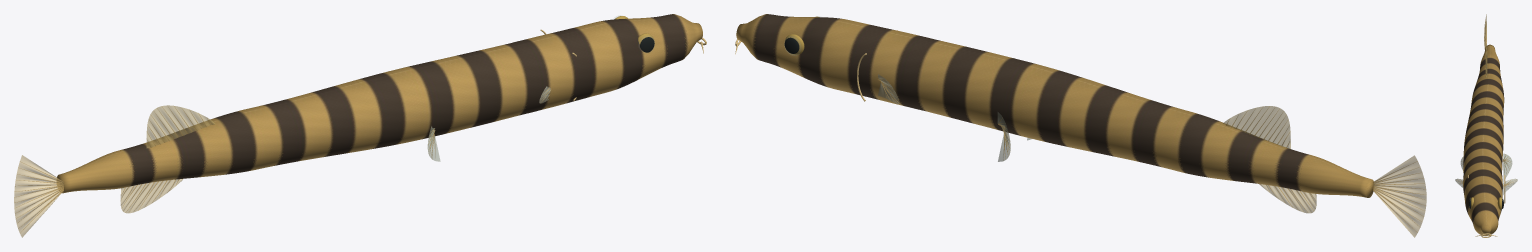
Rendered from kuhli-desktop.glb.
The picture shows the model from 3 angles, left to right: view 1: azimuth 30°, elevation 25°; view 2: azimuth 150°, elevation 25°; view 3: azimuth 270°, elevation 25°; orthographic projection. The views are drawn at different scales.
Parts seen in each view (by area): view 1: skin, tail, dorsal, dorsal-ray, anal; view 2: skin, tail, dorsal, dorsal-ray, anal, pelvic-left; view 3: skin, pelvic-left, dorsal-ray, pectoral-left, operculum, tail, eye-iris--1, dorsal.
Part boxes in pixels (<box>): skin: <box>56,14,702,193</box>; tail: <box>14,155,63,237</box>; dorsal: <box>146,105,214,147</box>; dorsal-ray: <box>14,88,551,229</box>; anal: <box>120,178,183,213</box>; skin: <box>736,14,1373,197</box>; tail: <box>1373,155,1426,237</box>; dorsal: <box>1223,106,1290,149</box>; dorsal-ray: <box>878,79,1425,232</box>; anal: <box>1259,184,1316,213</box>; pelvic-left: <box>997,112,1031,161</box>; skin: <box>1463,44,1504,235</box>; pelvic-left: <box>1460,153,1512,182</box>; dorsal-ray: <box>1456,20,1516,187</box>; pectoral-left: <box>1455,178,1517,194</box>; operculum: <box>1467,175,1505,237</box>; tail: <box>1484,14,1486,49</box>; eye-iris--1: <box>1470,197,1502,209</box>; dorsal: <box>1485,44,1487,77</box>.
Size of the model in its own units: 0.6002 by 0.0908 by 0.0814.
Materials: 11 (1 with a texture image).
